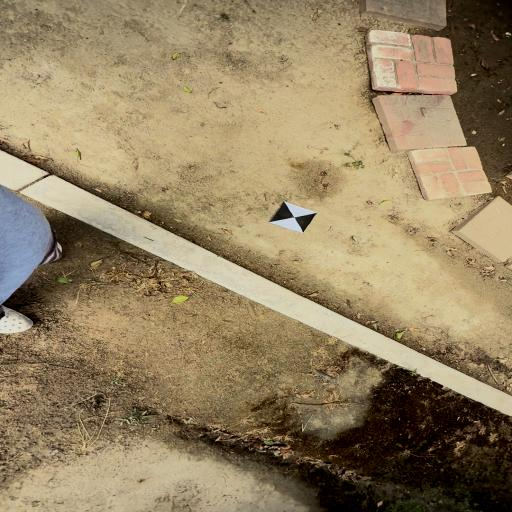target: (270, 202, 317, 232)
